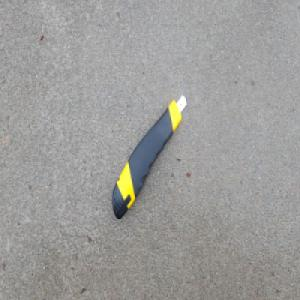Cutter: (110, 93, 185, 221)
